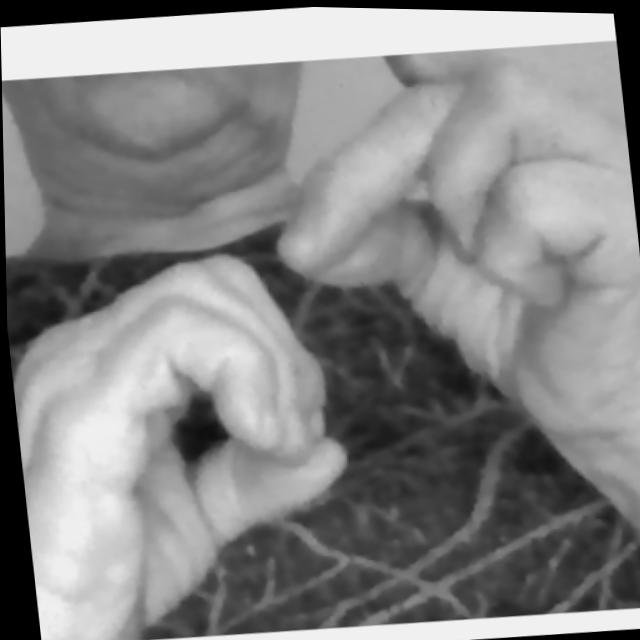O--: (1, 25, 640, 640)
